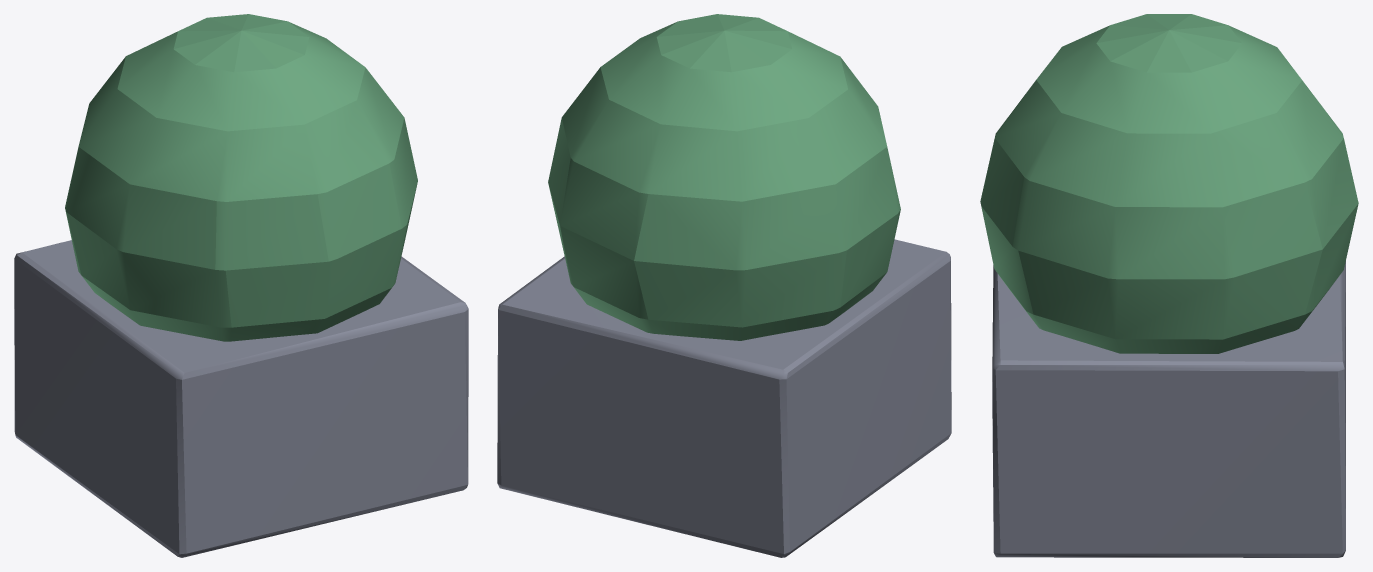
The model's file is SM_Innenstadt_Planter_LOD1.fbx.
3 views of the same model, side by side, from view 1: azimuth 30°, elevation 25°; view 2: azimuth 150°, elevation 25°; view 3: azimuth 270°, elevation 25° (orthographic). The views are drawn at different scales.
Visible parts, largest first — view 1: SM_Innenstadt_Planter_LOD1; view 2: SM_Innenstadt_Planter_LOD1; view 3: SM_Innenstadt_Planter_LOD1.
Boxes of the visible parts, <box> form: SM_Innenstadt_Planter_LOD1: <box>14,14,468,557</box>; SM_Innenstadt_Planter_LOD1: <box>497,14,951,557</box>; SM_Innenstadt_Planter_LOD1: <box>980,14,1358,557</box>.
Size of the model in its own units: 1.33 by 1.85 by 1.39.
